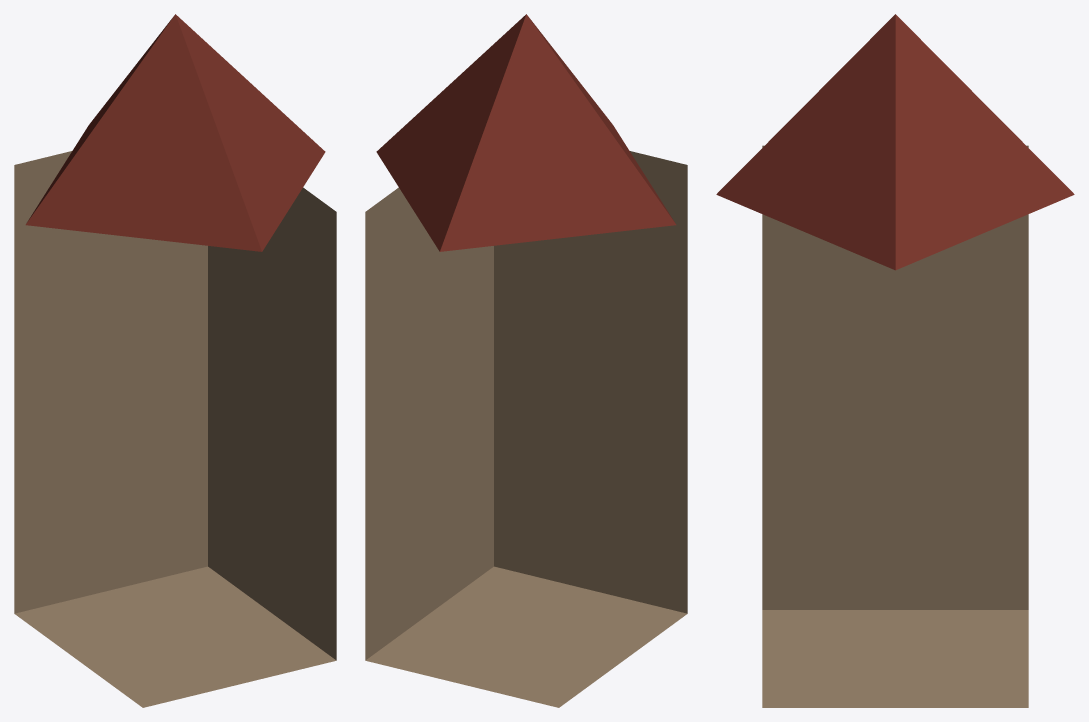
File: bell_tower.glb
3 views of the same model, side by side, from view 1: azimuth 30°, elevation 25°; view 2: azimuth 150°, elevation 25°; view 3: azimuth 270°, elevation 25° (orthographic). The views are drawn at different scales.
Parts seen in each view (by area): view 1: bell_tower; view 2: bell_tower; view 3: bell_tower.
Boxes of the visible parts, box(x1,y1,x2,y2) form: bell_tower: box(14, 14, 336, 707); bell_tower: box(365, 14, 687, 707); bell_tower: box(716, 14, 1074, 707).
Size of the model in its own units: 2.4 by 4.76 by 2.4.
